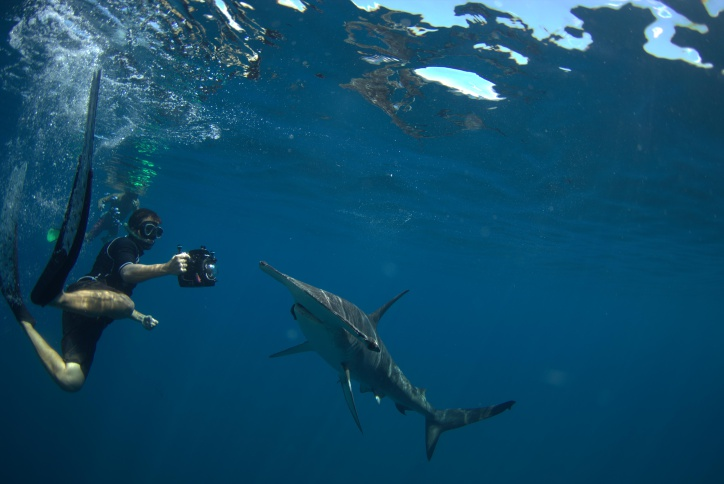Hammer: (253, 249, 542, 473)
